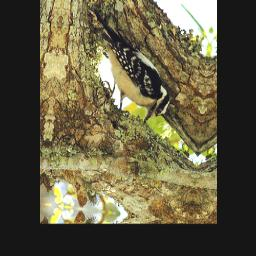Woodpecker: (78, 6, 183, 129)
